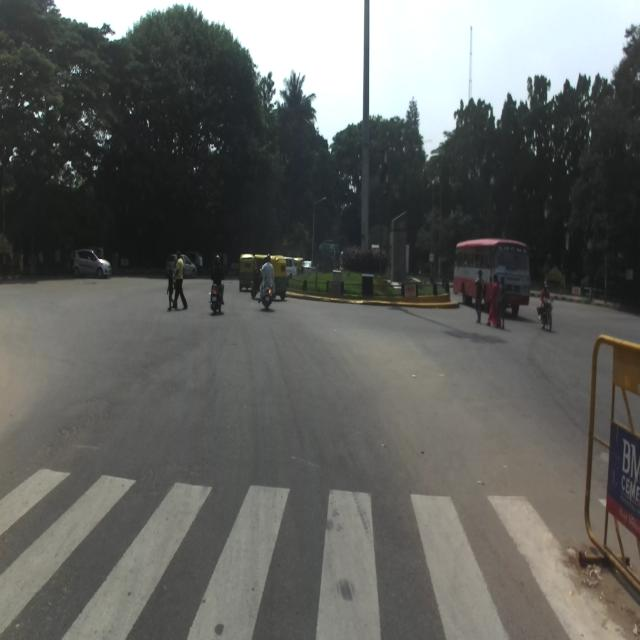zebra crossing ahead at: (0, 453, 636, 635)
